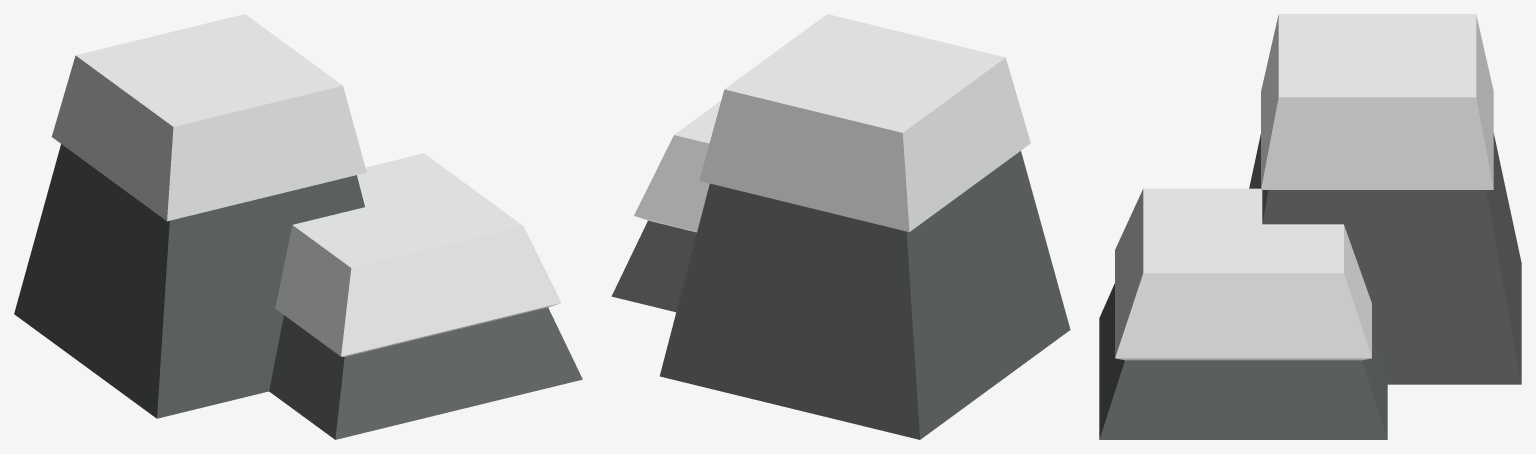
Rendered from Mesh_Stone_Double.glb.
3 renders of one model, left to right at view 1: azimuth 30°, elevation 25°; view 2: azimuth 150°, elevation 25°; view 3: azimuth 270°, elevation 25°, orthographic. The views are drawn at different scales.
Visible parts, largest first — view 1: Mesh_Stone_Double; view 2: Mesh_Stone_Double; view 3: Mesh_Stone_Double.
Boxes of the visible parts, x1=… form: Mesh_Stone_Double: x1=14, y1=14, x2=582, y2=439; Mesh_Stone_Double: x1=611, y1=14, x2=1070, y2=439; Mesh_Stone_Double: x1=1099, y1=14, x2=1521, y2=439.
Bounding box in the file's own units: 0.1981 × 0.1399 × 0.1997.
1 material, 1 textured.
